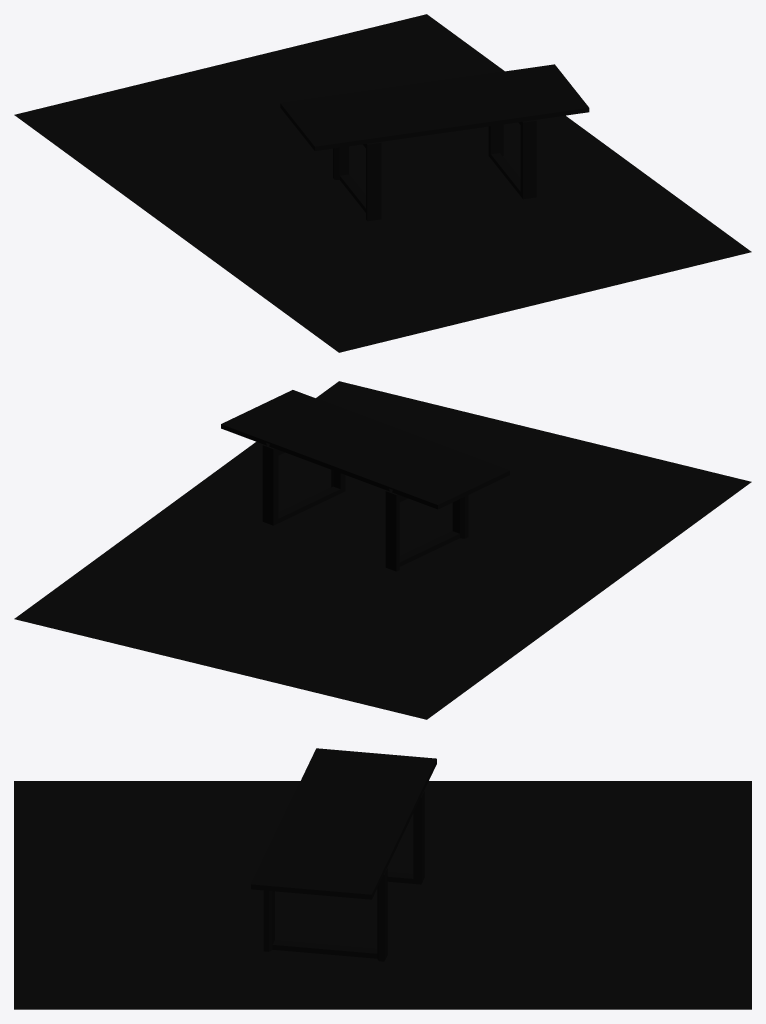
File: table.glb
3 renders of one model, top to bottom at view 1: azimuth 30°, elevation 25°; view 2: azimuth 150°, elevation 25°; view 3: azimuth 270°, elevation 25°, orthographic. The views are drawn at different scales.
Visible parts, largest first — view 1: Plane, interiour-table; view 2: Plane, interiour-table; view 3: Plane, interiour-table.
Part boxes in pixels (bbox=[...]): Plane: bbox=[14, 14, 751, 352]; interiour-table: bbox=[280, 64, 589, 221]; Plane: bbox=[14, 381, 751, 719]; interiour-table: bbox=[221, 390, 509, 571]; Plane: bbox=[14, 781, 751, 1009]; interiour-table: bbox=[251, 748, 436, 961].
Bounding box in the file's own units: 3.3 × 0.6263 × 4.5.
2 materials, 1 textured.
